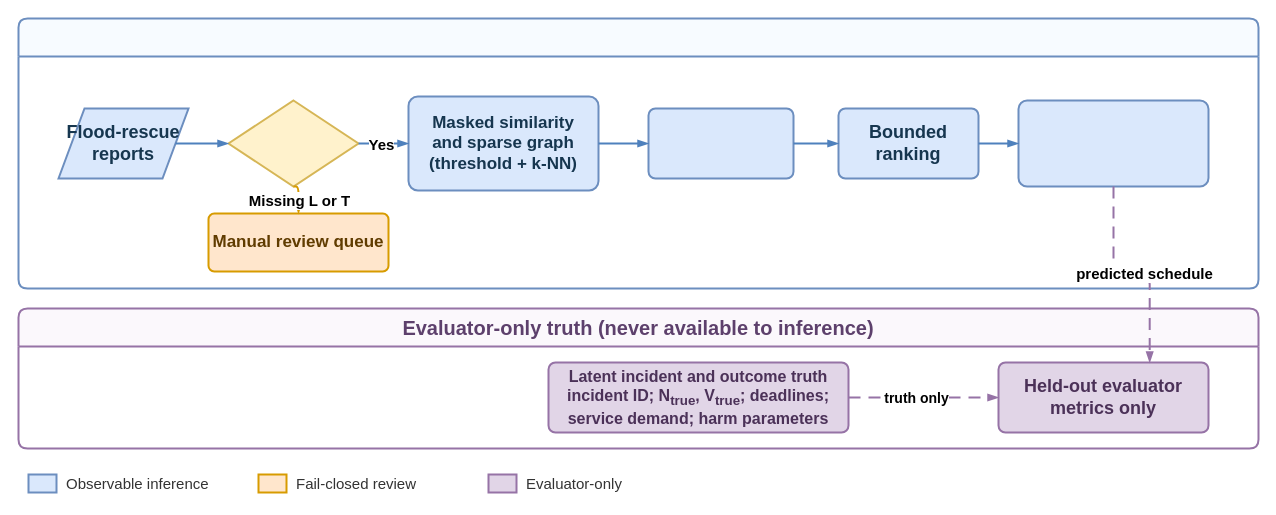
Image size: 1276x515. Some labels were removed from this diagram. The shapes that lost their labels are listed below. From the top down, each one's box as (x1, y1, x2, y2) in pixels, then its label:
(227, 99, 359, 187): Location and time present?
(17, 17, 1259, 289): Observable pipeline
(647, 107, 794, 179): Predicted clustering
(1017, 99, 1209, 187): Predicted-cluster scheduling
